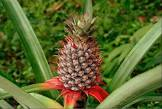Pineapple: (58, 17, 104, 92)
